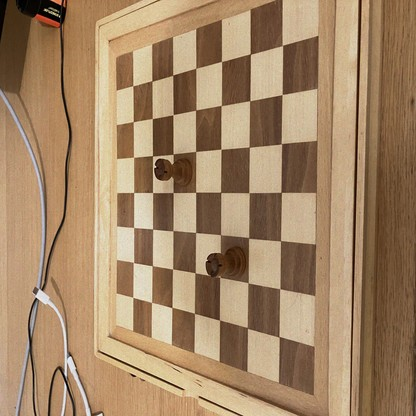rock_black: (207, 246, 245, 279), (155, 159, 192, 185)
